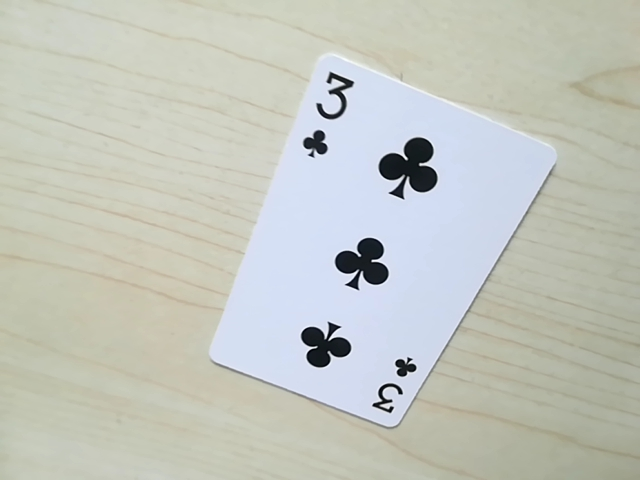mh 3: (295, 62, 356, 164), (368, 354, 416, 422)
